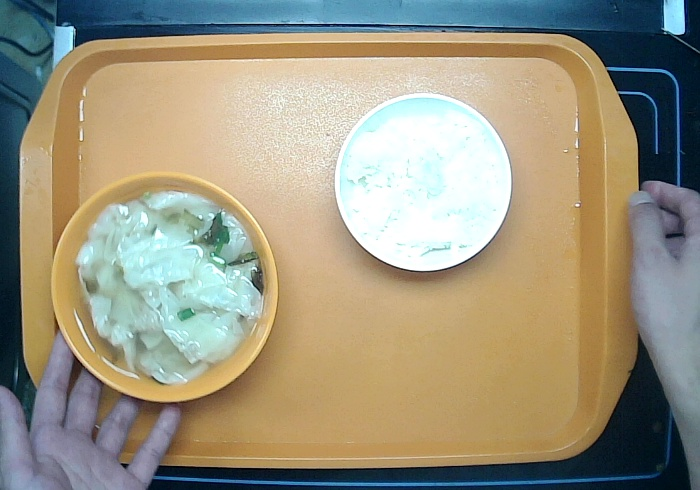NLDX-Fan_Wan: (330, 89, 517, 275)
NLDX-Hun_Tun_Wan: (39, 166, 287, 412)
